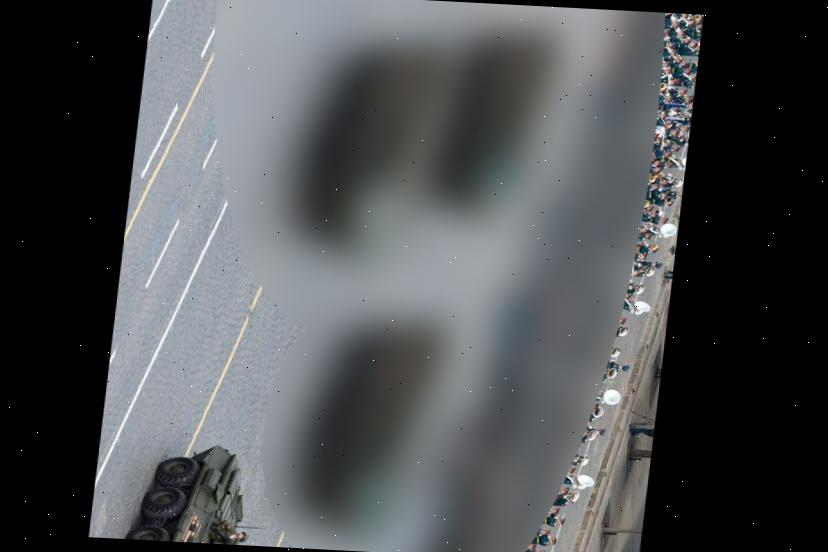armored_car: (114, 441, 270, 546)
